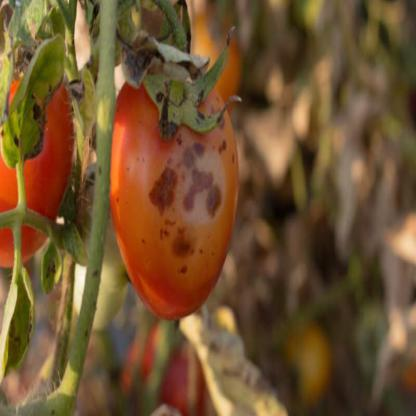tomato_rotten: (101, 39, 242, 342)
